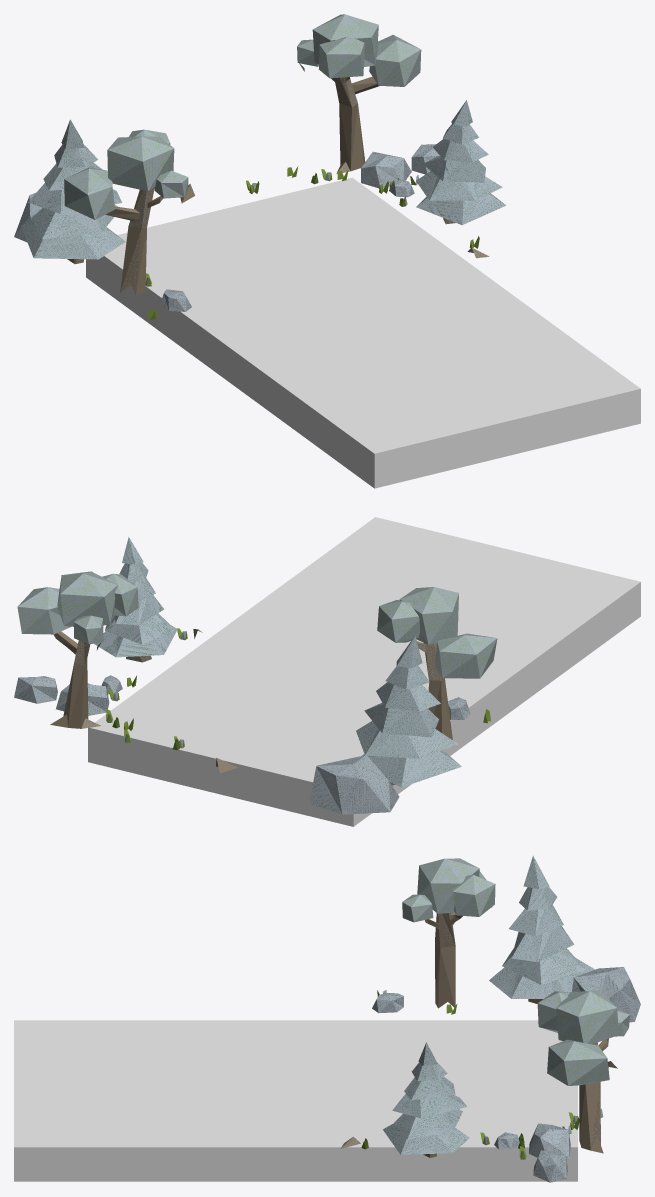
The model's file is box+trees.FBX.
The picture shows the model from 3 angles, top to bottom: view 1: azimuth 30°, elevation 25°; view 2: azimuth 150°, elevation 25°; view 3: azimuth 270°, elevation 25°; orthographic projection. The views are drawn at different scales.
Visible parts, largest first — view 1: Box001, ID138, ID530, ID110, ID218, ID186, ID558, ID154, ID710, ID638, ID242, ID266 (+6 smaller); view 2: Box001, ID742, ID186, ID110, ID138, ID558, ID530, ID218, ID574, ID130, ID638, ID590 (+10 smaller); view 3: Box001, ID186, ID218, ID138, ID742, ID530, ID558, ID638, ID130, ID574, ID710, ID36 (+13 smaller).
Part boxes in pixels (bbox=[...]): Box001: bbox=[86, 177, 640, 488]; ID138: bbox=[107, 136, 174, 191]; ID530: bbox=[21, 219, 125, 259]; ID110: bbox=[64, 167, 114, 219]; ID218: bbox=[369, 34, 421, 86]; ID186: bbox=[312, 14, 378, 66]; ID558: bbox=[31, 205, 118, 239]; ID154: bbox=[318, 37, 364, 78]; ID710: bbox=[416, 171, 502, 200]; ID638: bbox=[416, 193, 506, 225]; ID242: bbox=[339, 103, 365, 171]; ID266: bbox=[361, 151, 411, 188]; Box001: bbox=[88, 517, 640, 826]; ID742: bbox=[309, 755, 399, 814]; ID186: bbox=[57, 571, 117, 626]; ID110: bbox=[435, 633, 497, 678]; ID138: bbox=[399, 587, 458, 644]; ID558: bbox=[356, 721, 458, 758]; ID530: bbox=[362, 750, 461, 787]; ID218: bbox=[17, 587, 71, 634]; ID574: bbox=[364, 703, 438, 737]; ID130: bbox=[377, 600, 419, 642]; ID638: bbox=[94, 625, 177, 657]; ID590: bbox=[376, 682, 440, 711]; Box001: bbox=[14, 1020, 577, 1181]; ID186: bbox=[556, 991, 618, 1044]; ID218: bbox=[547, 1039, 609, 1085]; ID138: bbox=[417, 858, 479, 913]; ID742: bbox=[572, 967, 640, 1022]; ID530: bbox=[489, 958, 594, 998]; ID558: bbox=[502, 948, 586, 984]; ID638: bbox=[383, 1123, 469, 1154]; ID130: bbox=[453, 874, 495, 916]; ID574: bbox=[511, 926, 574, 961]; ID710: bbox=[394, 1109, 462, 1139]; ID36: bbox=[435, 941, 455, 1008].
Size of the model in its own units: 13.01 by 5.57 by 16.67.
